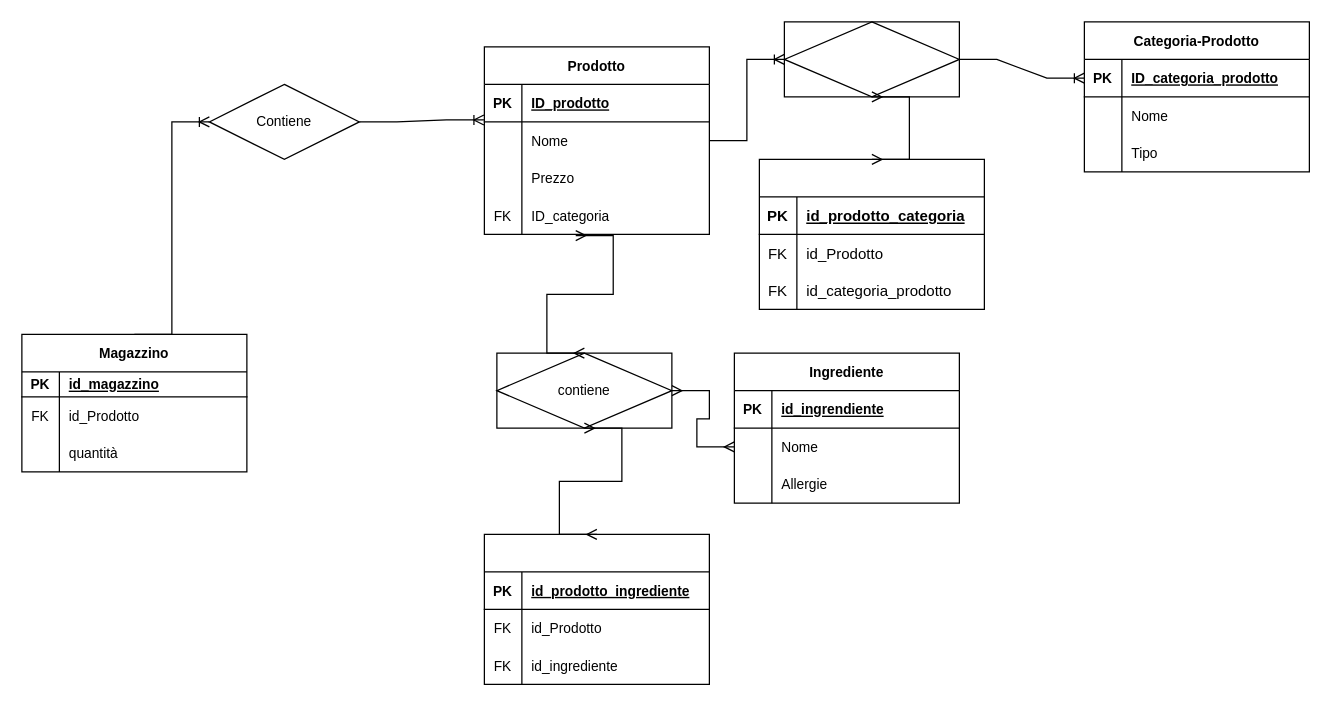
Some shapes in this 1331 by 706 pixel diagram are drawn without their labels. Each missing label, with the box of its shape:
Appartiene: (783, 21, 959, 97)
Prod-cat: (758, 158, 984, 309)
Prod-Ingr: (483, 533, 709, 684)
